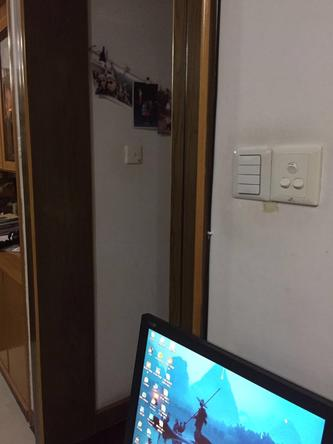switch: (232, 184, 265, 195), (234, 163, 262, 174), (235, 153, 261, 164), (234, 175, 261, 185), (293, 177, 305, 190), (287, 162, 299, 173), (279, 177, 290, 187)
